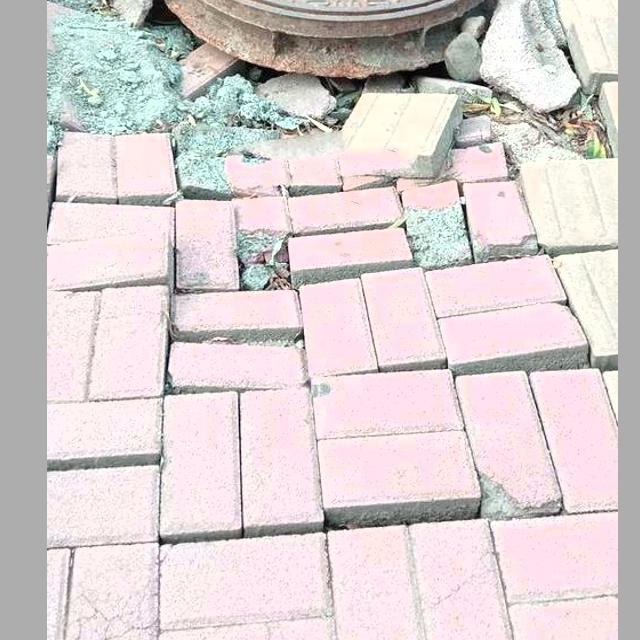circle: (53, 0, 606, 305)
